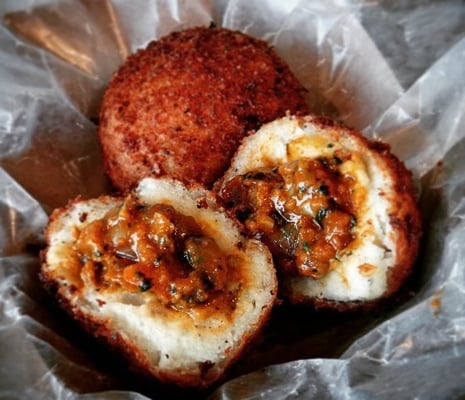sandwich: (37, 177, 279, 390), (214, 114, 424, 312)
